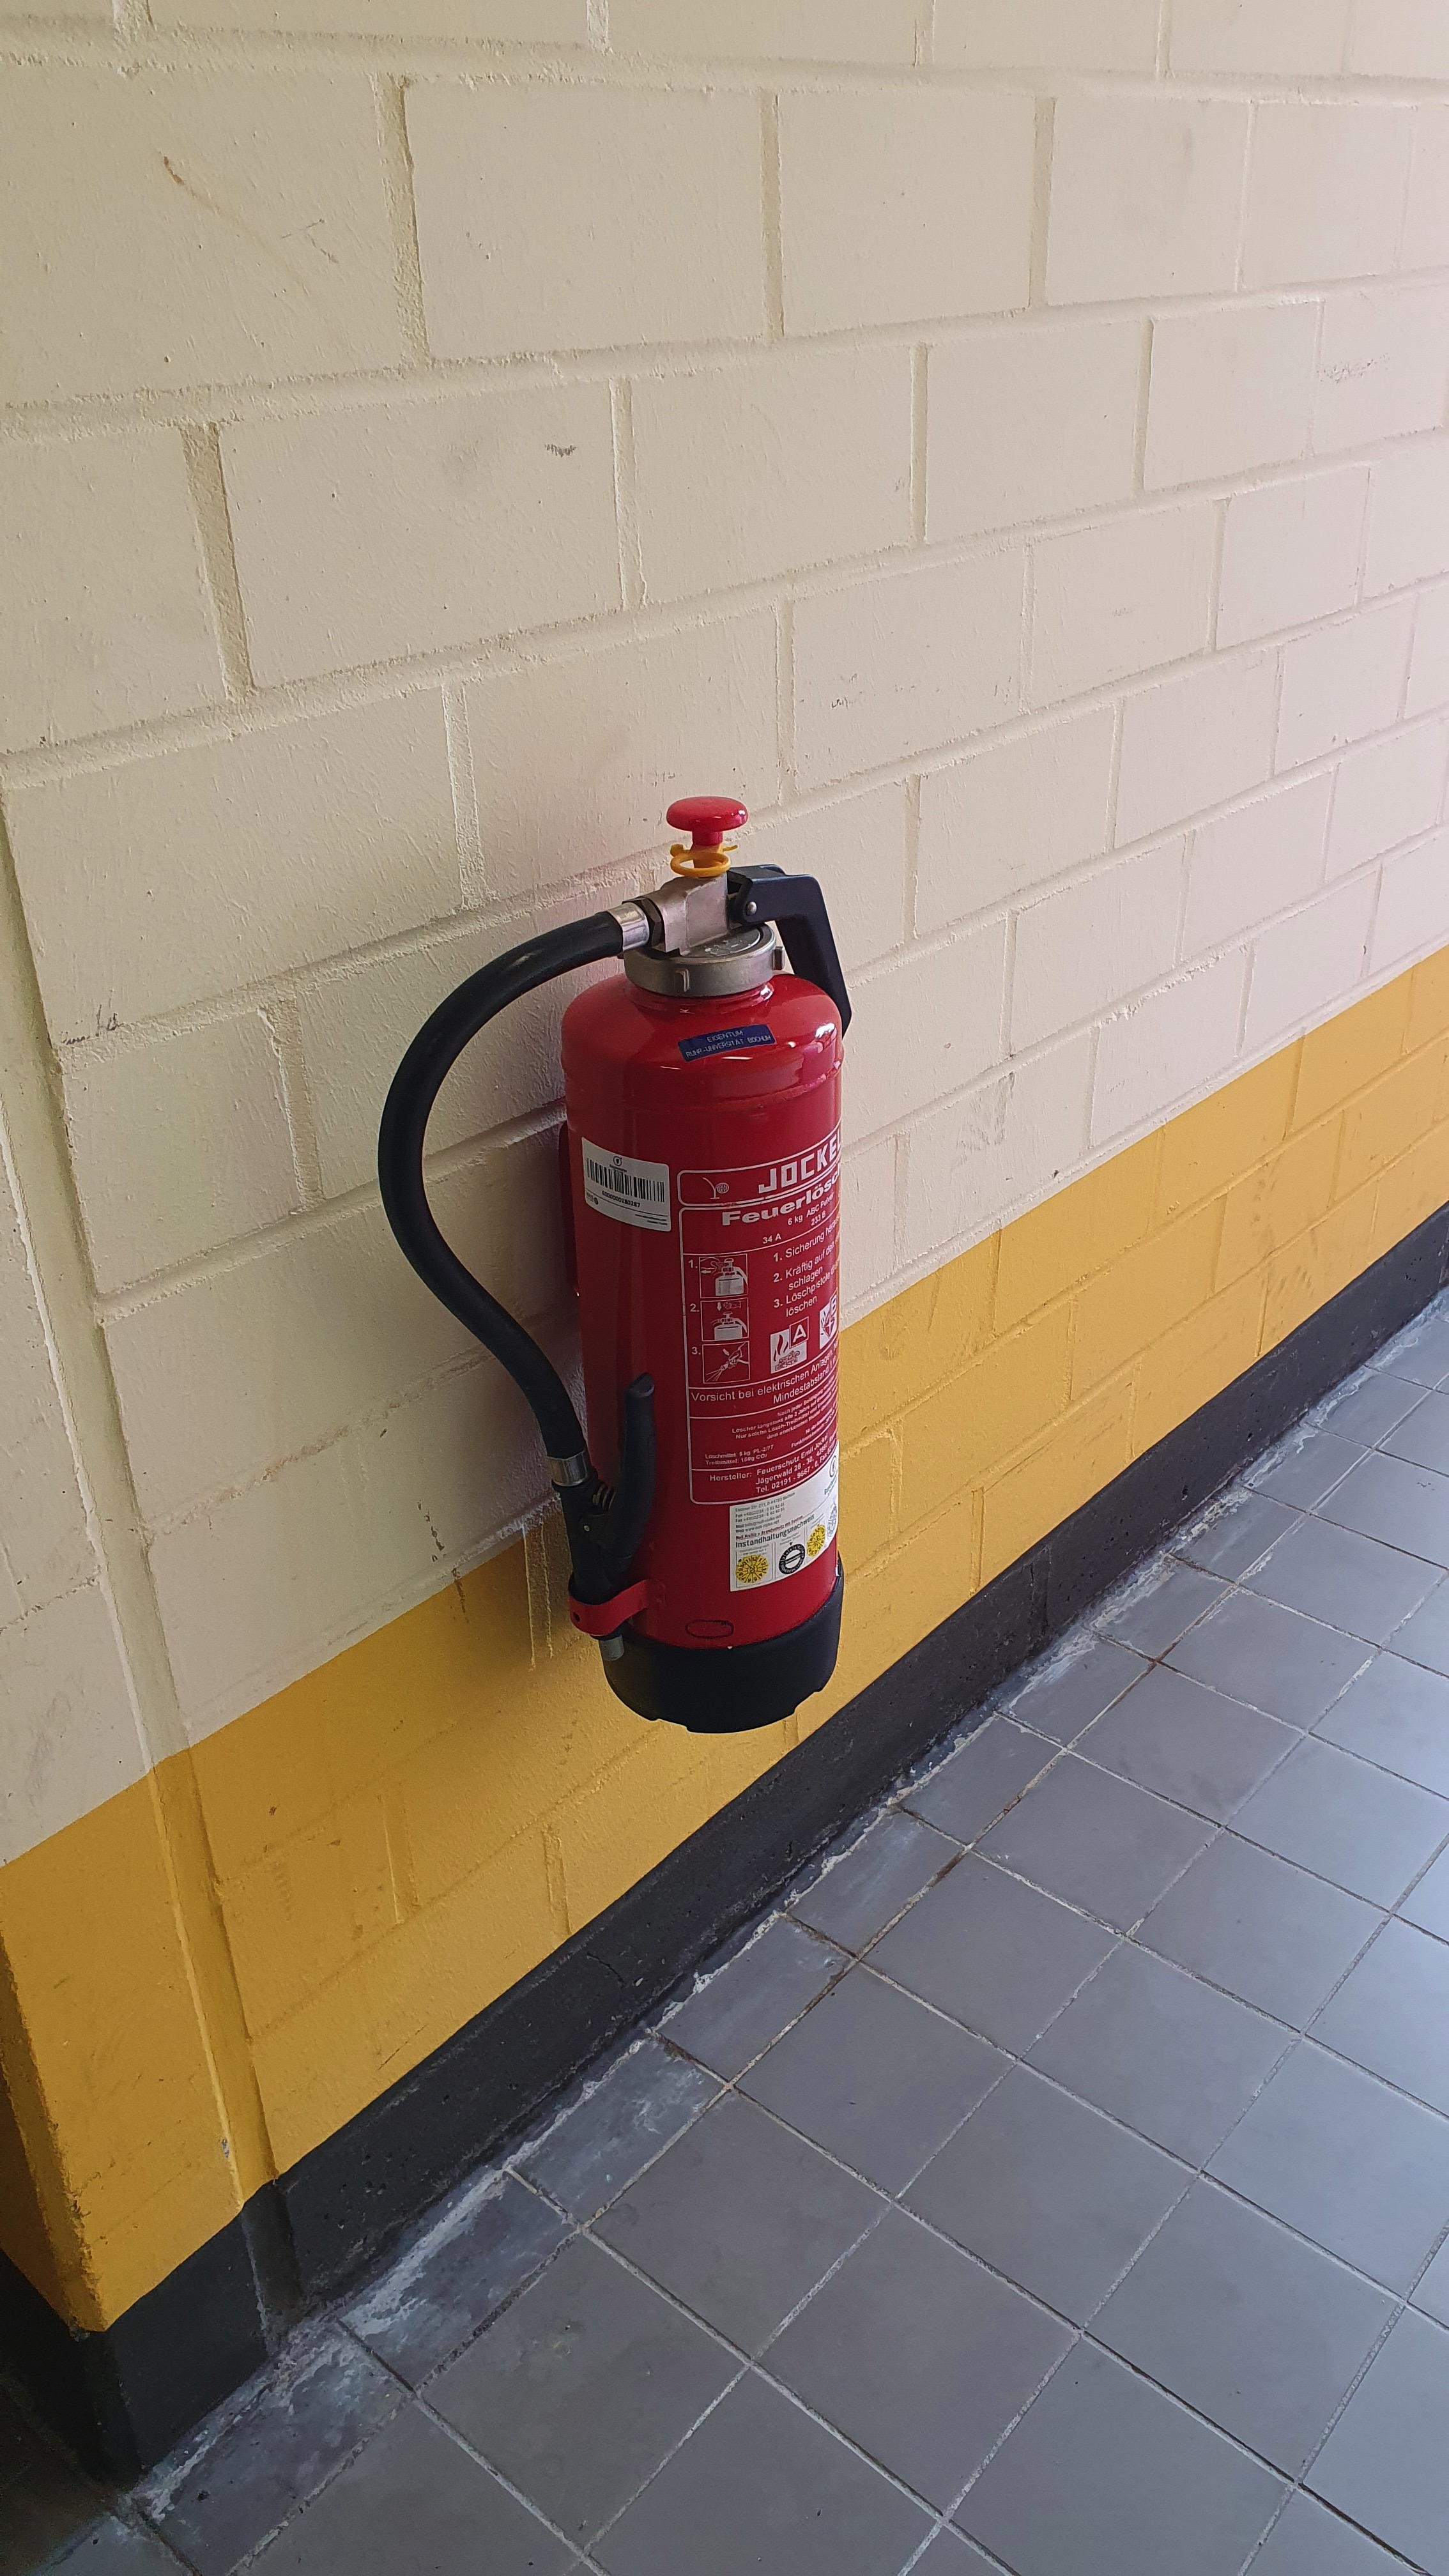extinguisher: (373, 797, 851, 1733)
